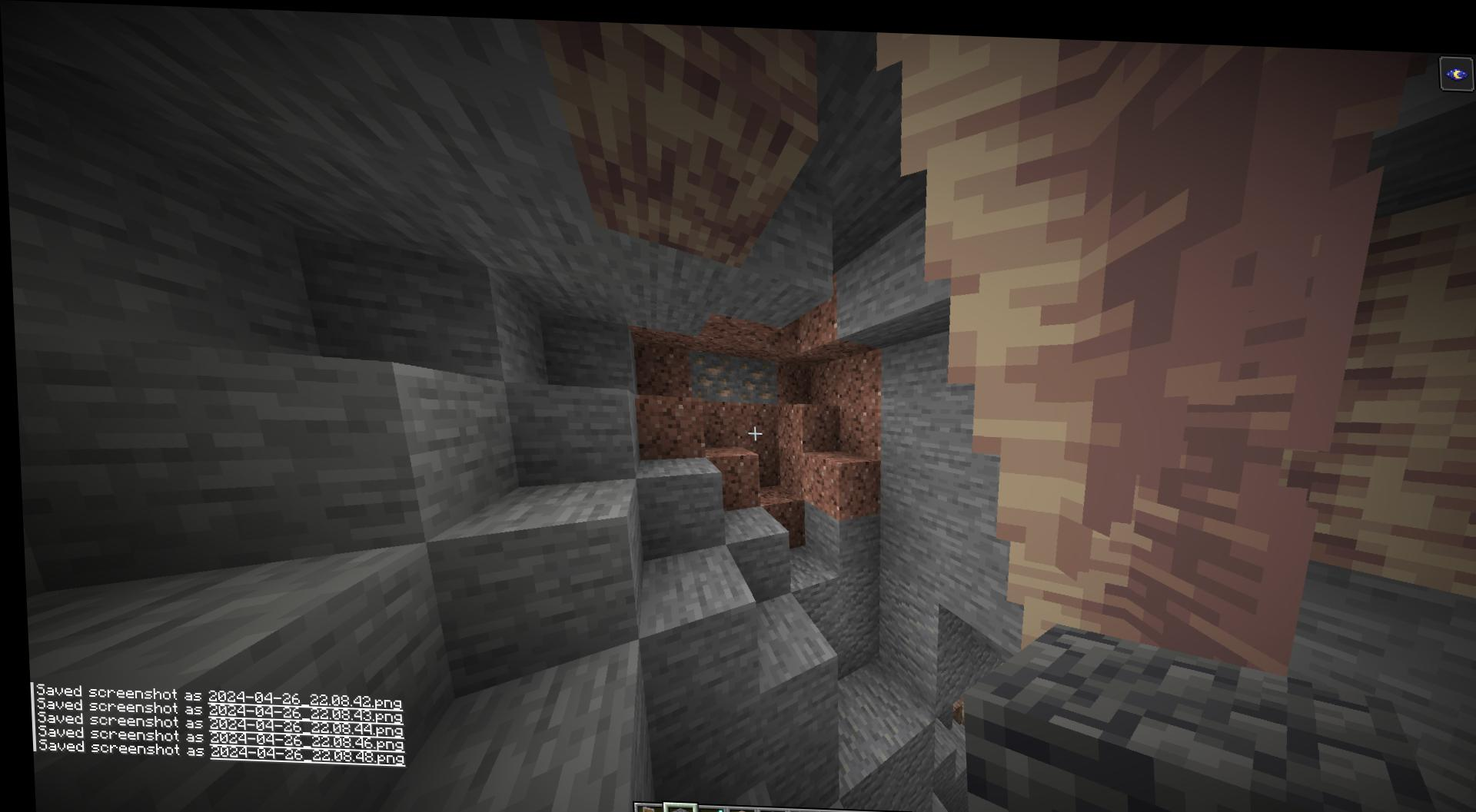iron ore: (687, 341, 737, 399), (723, 347, 774, 396)
